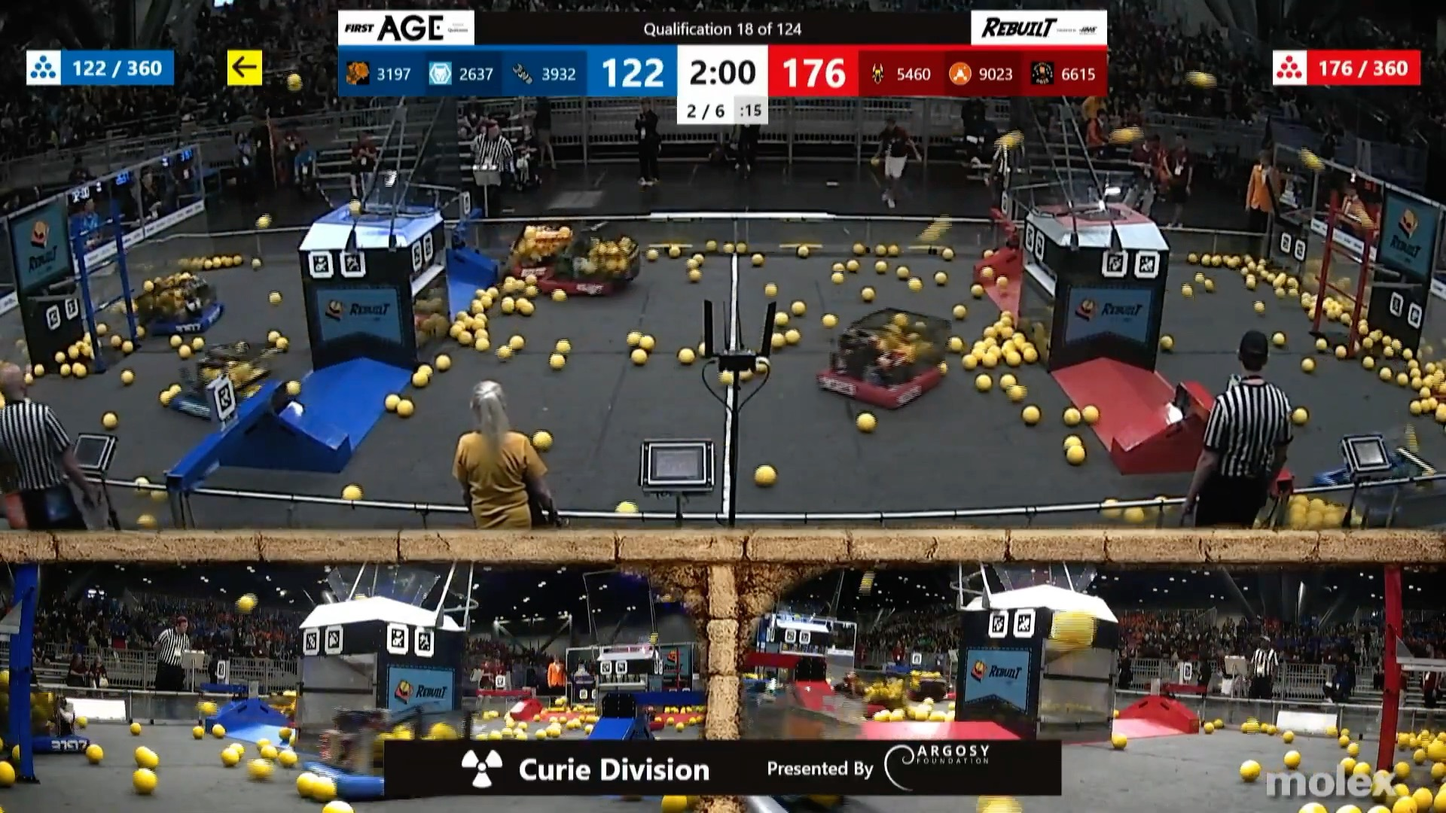bumpers: (160, 369, 294, 426), (810, 359, 948, 407), (517, 257, 642, 304), (293, 748, 395, 802), (122, 297, 237, 343), (19, 720, 105, 757)
